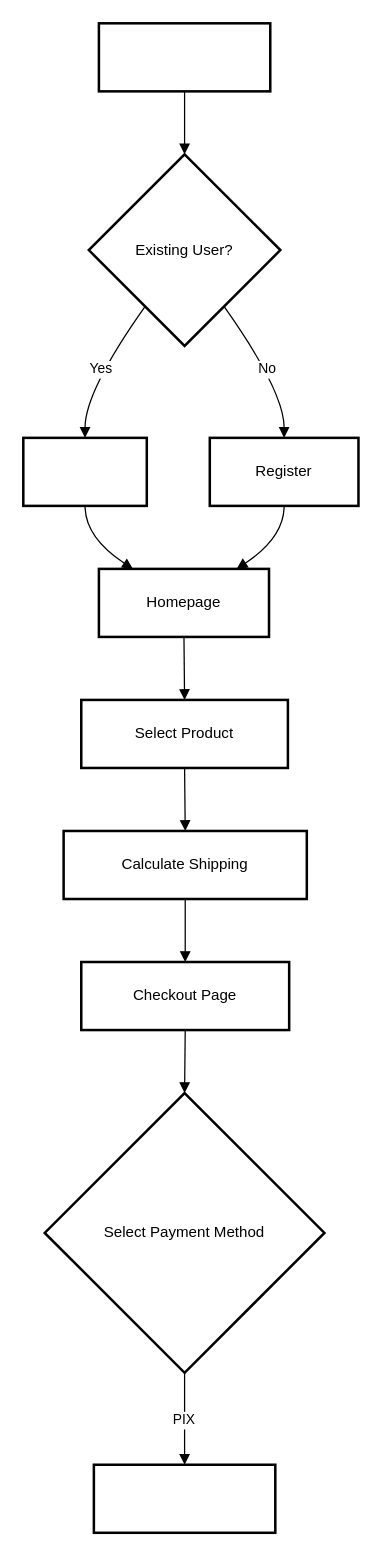
The diagram is 381 pixels wide and 1555 high, and some of its shapes have lost their labels. Each missing label, with the centre of its shape:
Login: (x=84, y=471)
Login Page: (x=184, y=56)
Place Order: (x=184, y=1498)
